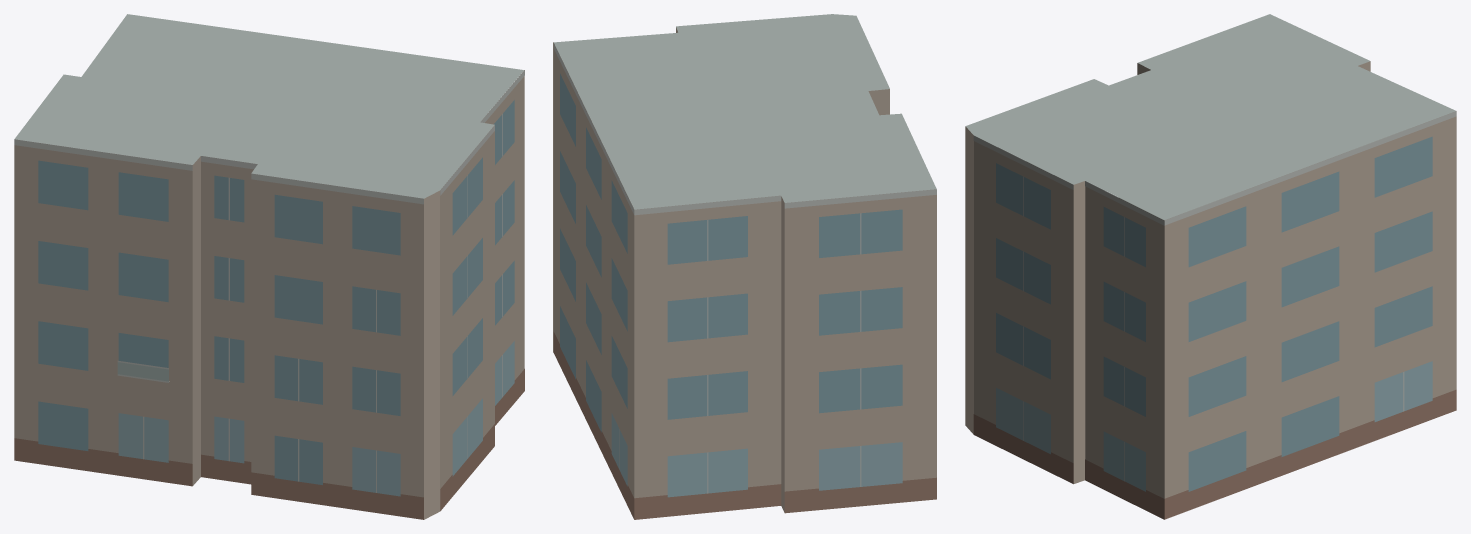
Rendered from survey-upis-32776184.glb.
3 views of the same model, side by side, from view 1: azimuth 30°, elevation 25°; view 2: azimuth 150°, elevation 25°; view 3: azimuth 270°, elevation 25° (orthographic). The views are drawn at different scales.
Parts seen in each view (by area): view 1: survey-upis-32776184.tmp; view 2: survey-upis-32776184.tmp; view 3: survey-upis-32776184.tmp.
Boxes of the visible parts, box(x1,y1,x2,y2) form: survey-upis-32776184.tmp: box(14, 14, 524, 519); survey-upis-32776184.tmp: box(553, 14, 936, 519); survey-upis-32776184.tmp: box(965, 14, 1456, 519).
Bounding box in the file's own units: 19.93 × 13.47 × 20.03.
